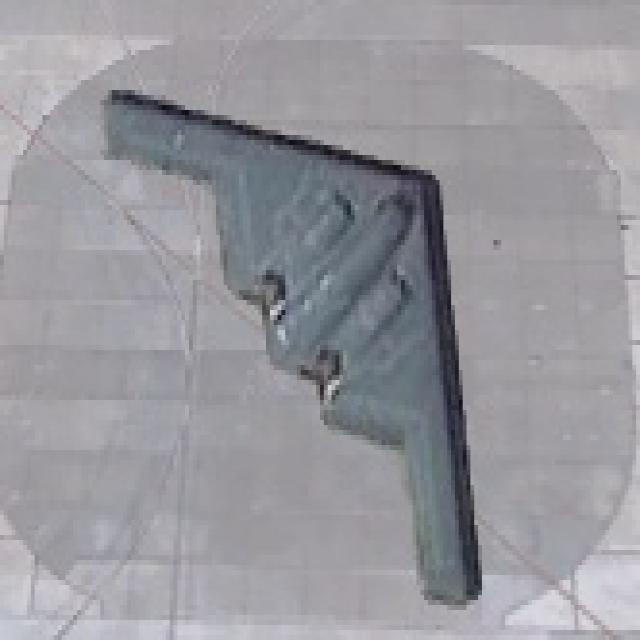B-2_TopDown: (96, 75, 486, 605)
